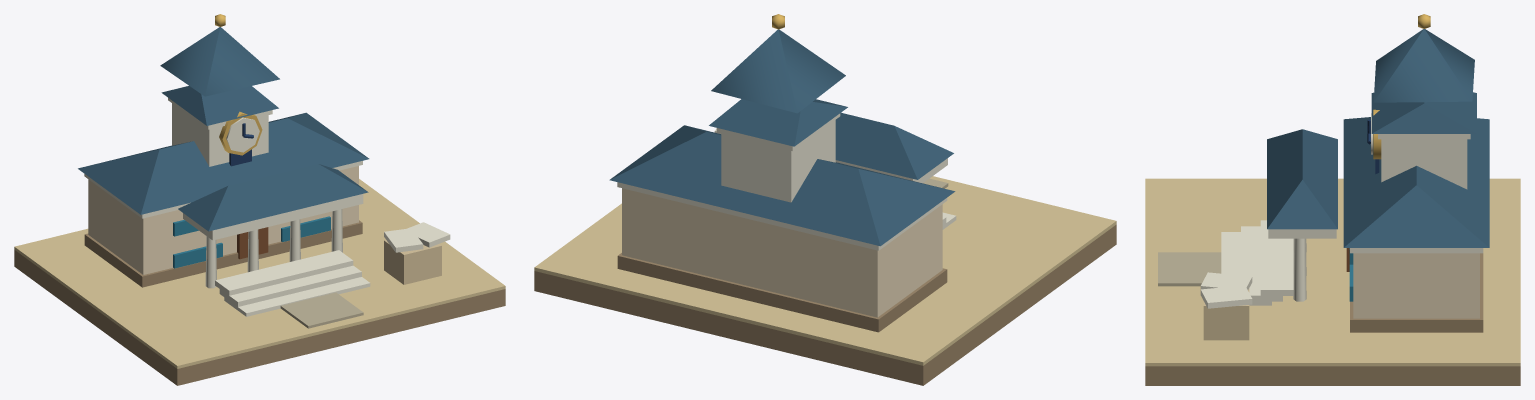
The model's file is university-lv1.glb.
3 renders of one model, left to right at view 1: azimuth 30°, elevation 25°; view 2: azimuth 150°, elevation 25°; view 3: azimuth 270°, elevation 25°, orthographic. The views are drawn at different scales.
Visible parts, largest first — view 1: foundation_sand, lecture_hall_roof_roof, foundation_stoneDark, lecture_hall_cream, portico_pediment_roof, entrance_steps_white, tower_cap_roof, lecture_hall_stoneDark, clock_tower_roof_roof, clock_tower_white, body_white, book_plinth_stone (+8 smaller); view 2: foundation_sand, lecture_hall_cream, lecture_hall_roof_roof, foundation_stoneDark, tower_cap_roof, clock_tower_white, lecture_hall_stoneDark, portico_pediment_roof, clock_tower_roof_roof, lecture_hall_white; view 3: foundation_sand, lecture_hall_roof_roof, lecture_hall_cream, foundation_stoneDark, portico_pediment_roof, tower_cap_roof, entrance_steps_white, clock_tower_white, clock_tower_roof_roof, lecture_hall_stoneDark, campus_path_paving, book_plinth_stone (+4 smaller).
Boxes of the visible parts, x1=… form: foundation_sand: x1=14, y1=179, x2=505, y2=368; lecture_hall_roof_roof: x1=78, y1=112, x2=369, y2=214; foundation_stoneDark: x1=14, y1=250, x2=505, y2=385; lecture_hall_cream: x1=88, y1=166, x2=358, y2=274; portico_pediment_roof: x1=178, y1=164, x2=368, y2=231; entrance_steps_white: x1=215, y1=250, x2=370, y2=316; tower_cap_roof: x1=160, y1=27, x2=279, y2=96; lecture_hall_stoneDark: x1=84, y1=220, x2=362, y2=287; clock_tower_roof_roof: x1=161, y1=86, x2=278, y2=125; clock_tower_white: x1=168, y1=98, x2=272, y2=166; body_white: x1=205, y1=209, x2=342, y2=288; book_plinth_stone: x1=384, y1=240, x2=441, y2=284; foundation_sand: x1=534, y1=176, x2=1116, y2=365; lecture_hall_cream: x1=622, y1=188, x2=942, y2=317; lecture_hall_roof_roof: x1=609, y1=125, x2=955, y2=246; foundation_stoneDark: x1=534, y1=224, x2=1116, y2=385; tower_cap_roof: x1=711, y1=29, x2=845, y2=113; clock_tower_white: x1=716, y1=113, x2=840, y2=202; lecture_hall_stoneDark: x1=617, y1=253, x2=947, y2=332; portico_pediment_roof: x1=835, y1=112, x2=953, y2=179; clock_tower_roof_roof: x1=709, y1=99, x2=847, y2=146; lecture_hall_white: x1=617, y1=182, x2=947, y2=250; foundation_sand: x1=1145, y1=178, x2=1520, y2=366; lecture_hall_roof_roof: x1=1343, y1=117, x2=1489, y2=247; lecture_hall_cream: x1=1353, y1=253, x2=1479, y2=318; foundation_stoneDark: x1=1145, y1=366, x2=1520, y2=385; portico_pediment_roof: x1=1267, y1=129, x2=1337, y2=229; tower_cap_roof: x1=1373, y1=29, x2=1474, y2=102; entrance_steps_white: x1=1221, y1=220, x2=1293, y2=305; clock_tower_white: x1=1378, y1=134, x2=1470, y2=189; clock_tower_roof_roof: x1=1371, y1=92, x2=1476, y2=133; lecture_hall_stoneDark: x1=1350, y1=253, x2=1483, y2=332; campus_path_paving: x1=1158, y1=252, x2=1221, y2=286; book_plinth_stone: x1=1203, y1=288, x2=1249, y2=340.
Bounding box in the file's own units: 1 × 0.7081 × 0.8605.
